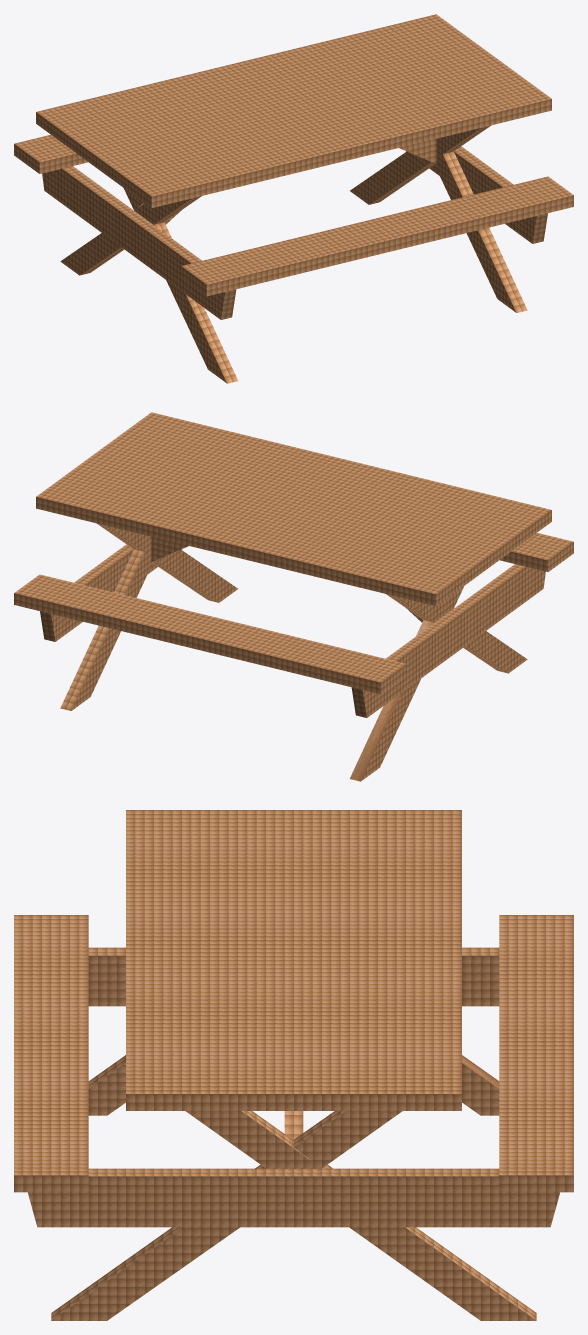
File: parkTable.fbx
3 views of the same model, one above another, from view 1: azimuth 30°, elevation 25°; view 2: azimuth 150°, elevation 25°; view 3: azimuth 270°, elevation 25° (orthographic). The views are drawn at different scales.
Parts seen in each view (by area): view 1: parcTable; view 2: parcTable; view 3: parcTable.
Part boxes in pixels (x1=…): parcTable: x1=14, y1=14, x2=573, y2=383; parcTable: x1=14, y1=412, x2=573, y2=781; parcTable: x1=14, y1=810, x2=573, y2=1320.
Size of the model in its own units: 184 by 79.2 by 153.
1 material, 1 textured.
